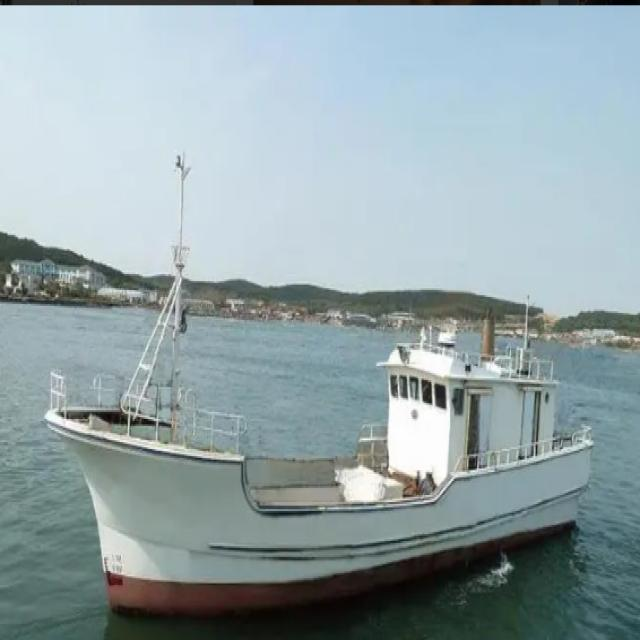houseboat: (47, 188, 616, 627)
